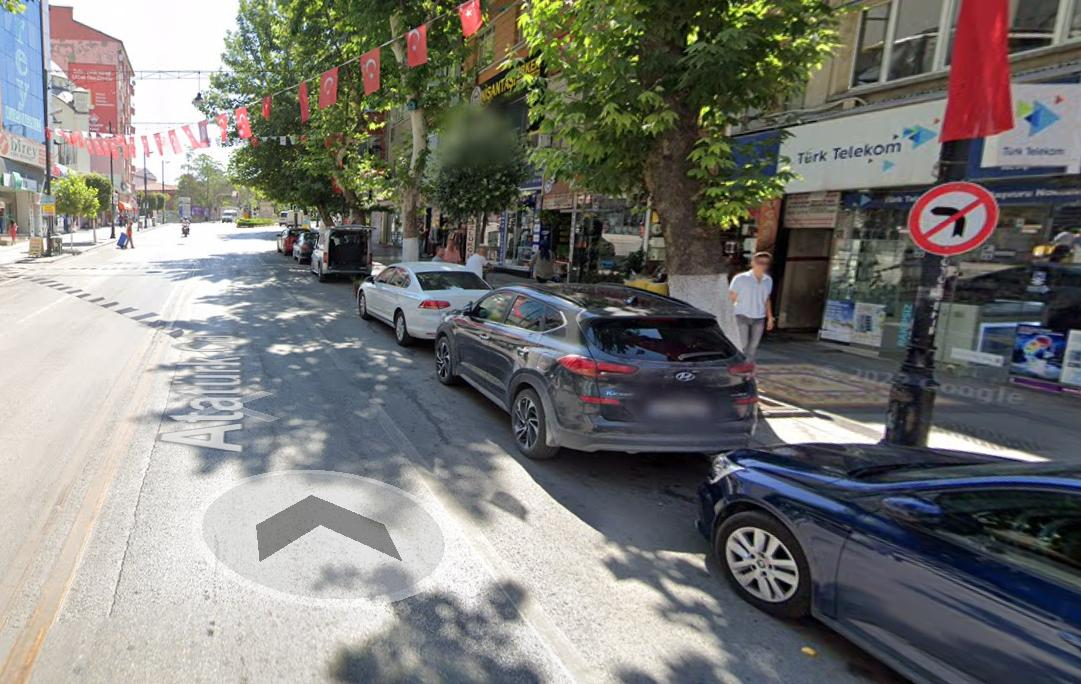leftturnsareforbidden: (908, 181, 1001, 259)
